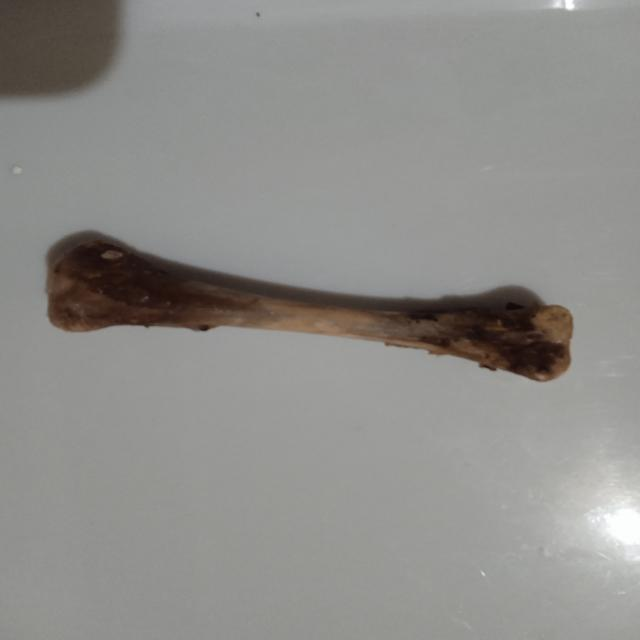bone: (41, 229, 582, 388)
